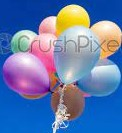Balloon: (54, 25, 99, 83), (3, 52, 50, 96), (80, 59, 120, 96), (51, 84, 85, 119)
